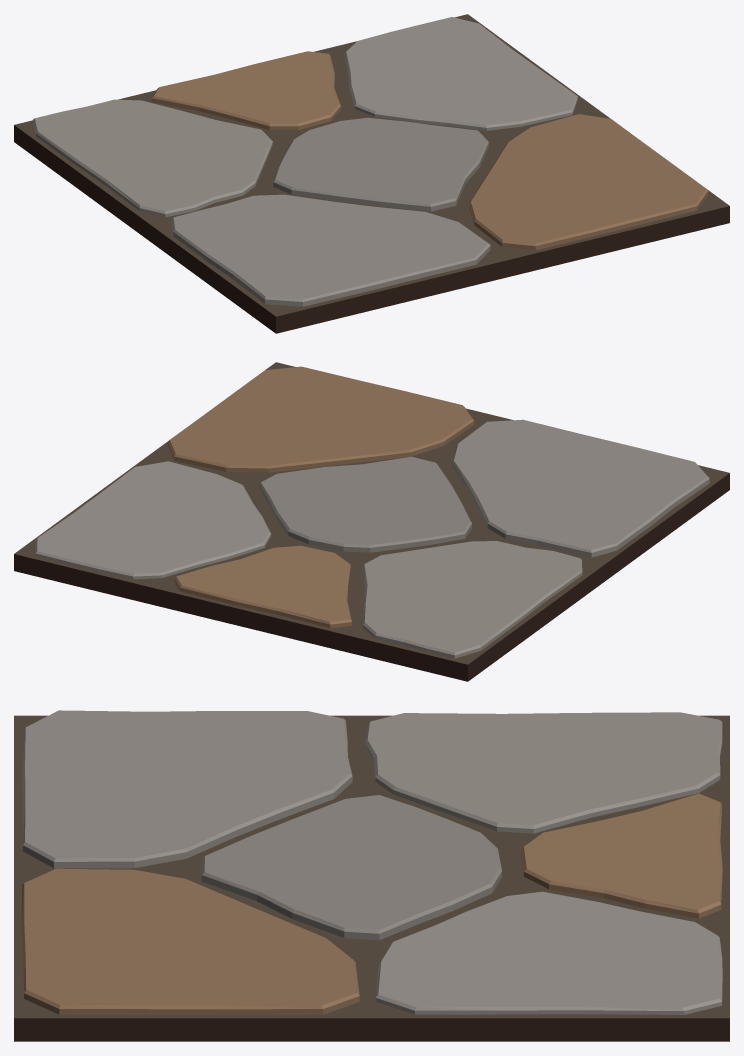
File: stone-path-tile-f77e6e.glb
3 renders of one model, top to bottom at view 1: azimuth 30°, elevation 25°; view 2: azimuth 150°, elevation 25°; view 3: azimuth 270°, elevation 25°, orthographic. The views are drawn at different scales.
Visible parts, largest first — view 1: stone-path-tile-mesh; view 2: stone-path-tile-mesh; view 3: stone-path-tile-mesh.
Part boxes in pixels (bbox=[...]): stone-path-tile-mesh: bbox=[14, 14, 729, 333]; stone-path-tile-mesh: bbox=[14, 362, 729, 681]; stone-path-tile-mesh: bbox=[14, 710, 729, 1041].
Size of the model in its own units: 1 by 0.05 by 1.
